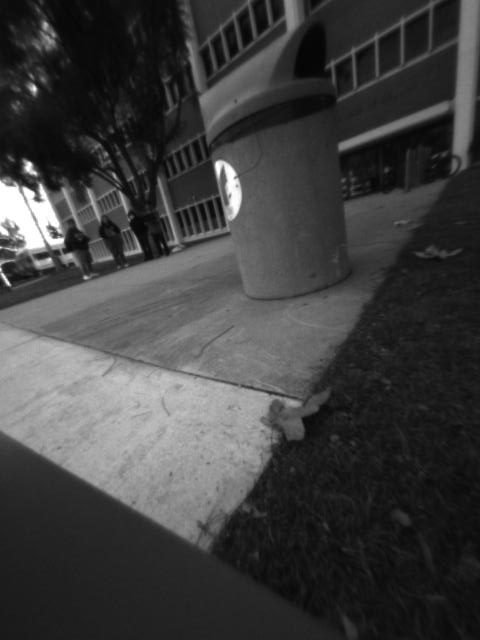trashcan: (191, 20, 361, 302)
